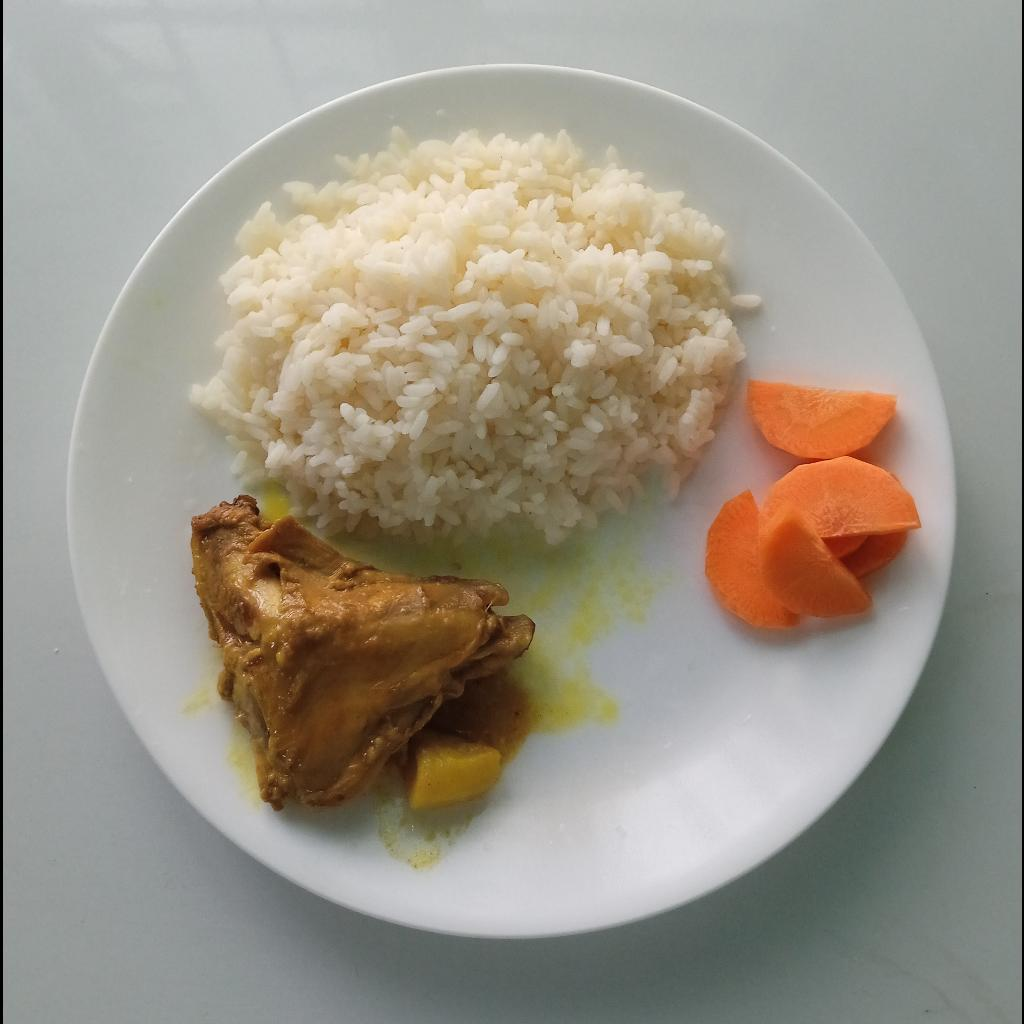carrot: (702, 382, 922, 631)
chicken: (187, 491, 537, 814)
potato: (404, 733, 500, 810)
rice: (189, 127, 763, 551)
